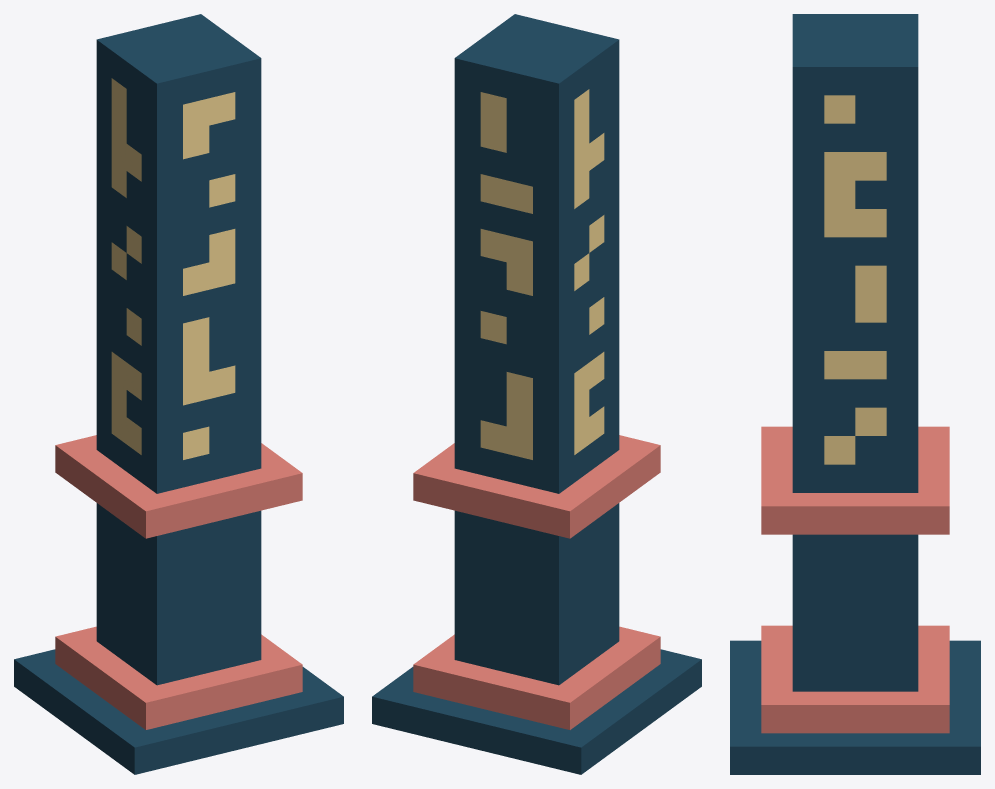
File: BS_Pillar_Big_2.fbx
3 views of the same model, side by side, from view 1: azimuth 30°, elevation 25°; view 2: azimuth 150°, elevation 25°; view 3: azimuth 270°, elevation 25° (orthographic). The views are drawn at different scales.
Visible parts, largest first — view 1: BS_Pillar_Big_2; view 2: BS_Pillar_Big_2; view 3: BS_Pillar_Big_2.
Part boxes in pixels (box(x1,y1,x2,y2)): BS_Pillar_Big_2: box(14, 14, 343, 774); BS_Pillar_Big_2: box(372, 14, 701, 774); BS_Pillar_Big_2: box(730, 14, 980, 774).
Size of the model in its own units: 20 by 20 by 60.
